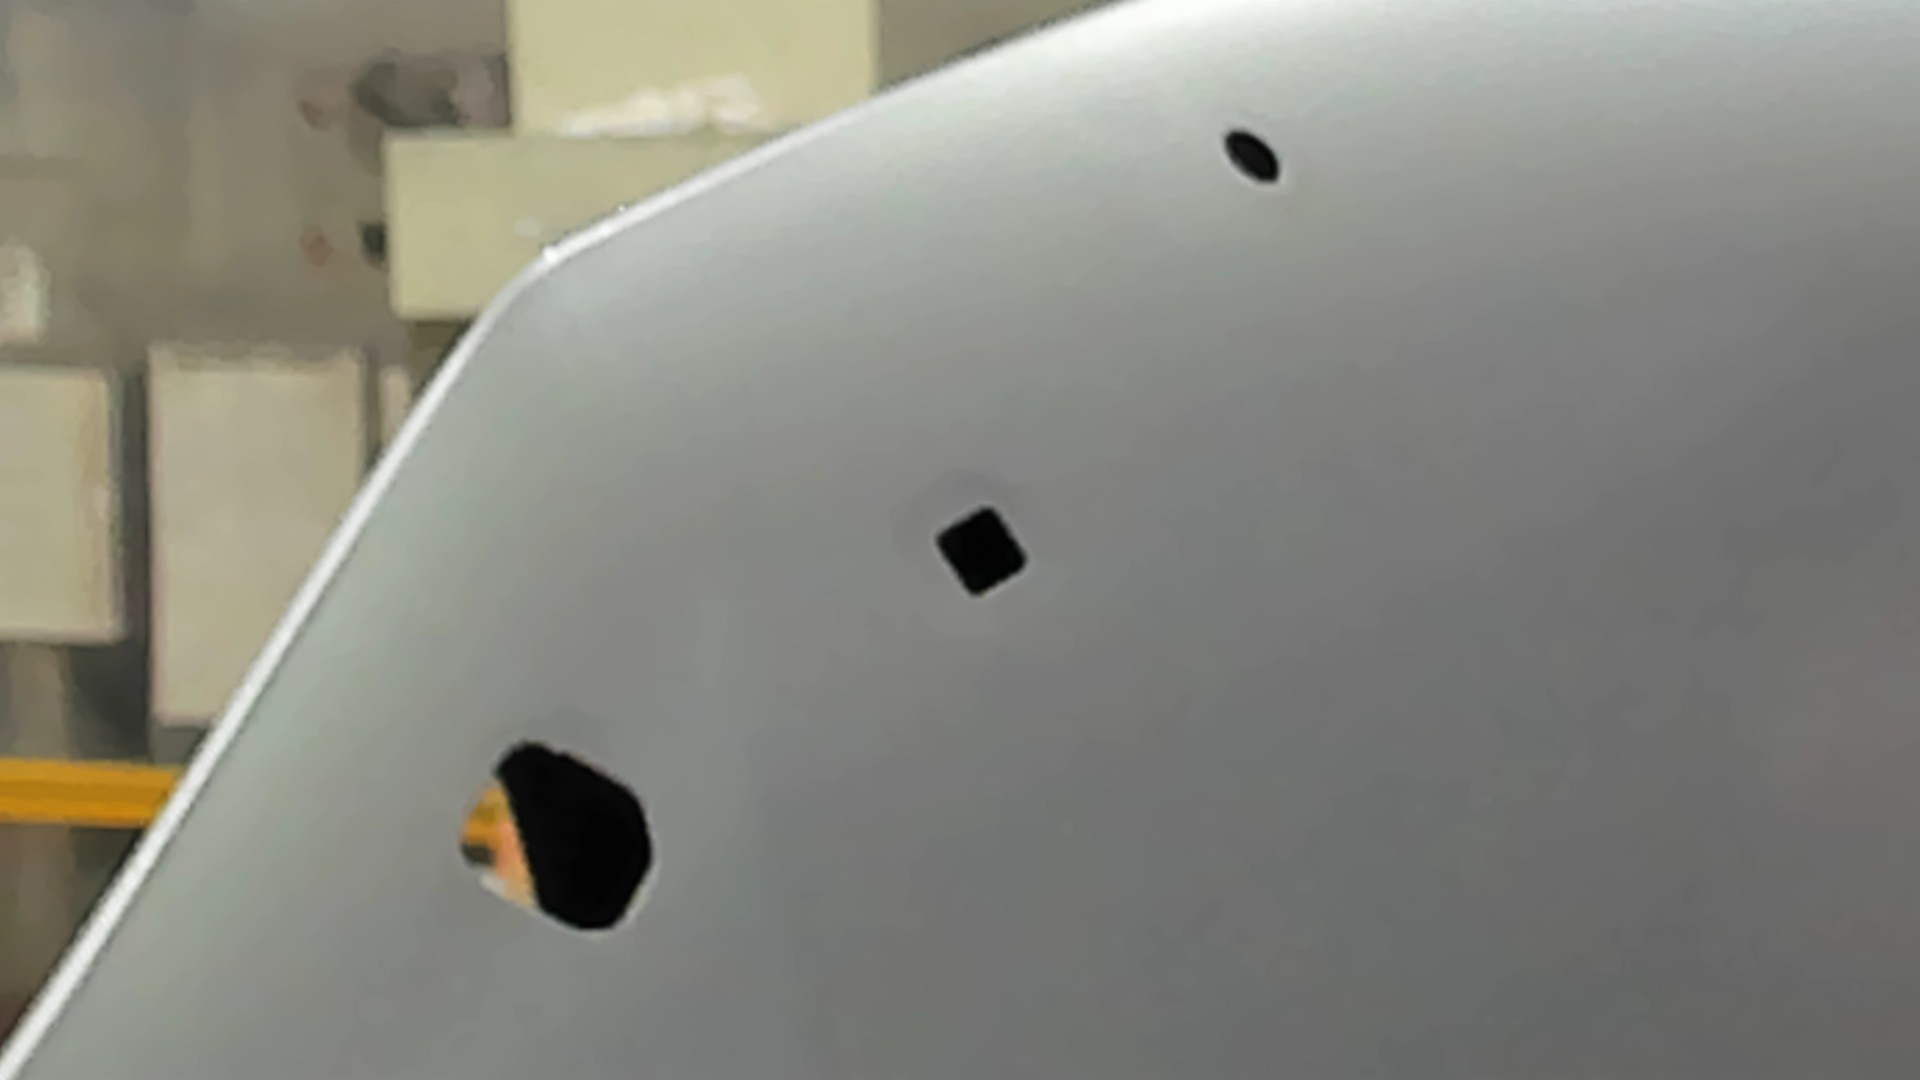capo: (1034, 200, 1920, 1080)
chico: (1217, 124, 1286, 190)
grande: (448, 727, 665, 947)
mediano: (927, 498, 1033, 605)
